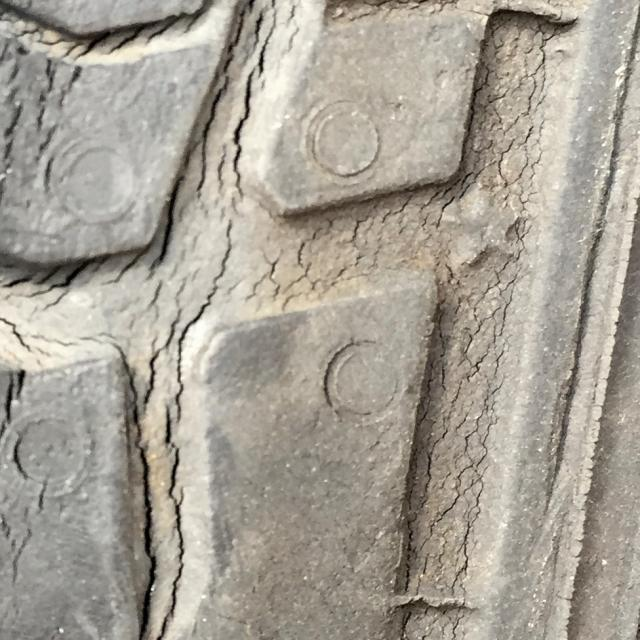Cracks: (0, 0, 604, 639)
